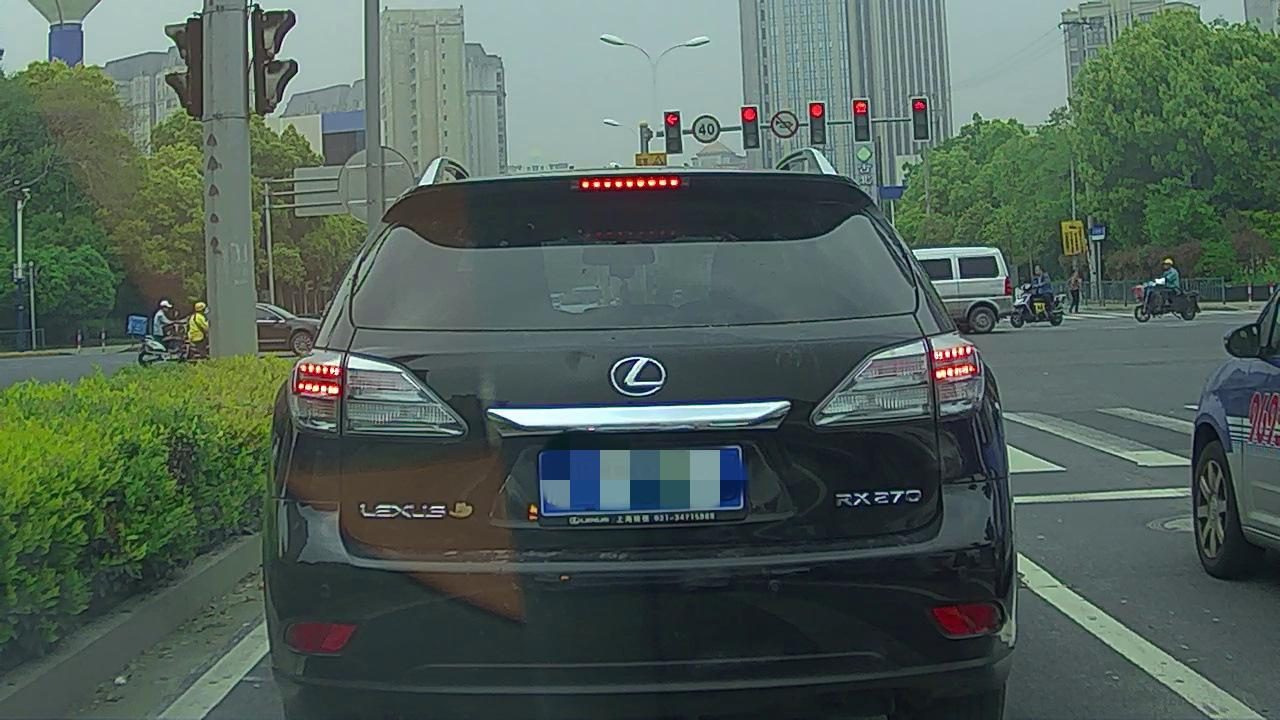traffic_light: (665, 112, 684, 155), (852, 99, 871, 142), (742, 107, 760, 149), (809, 102, 827, 144), (914, 98, 929, 142)
